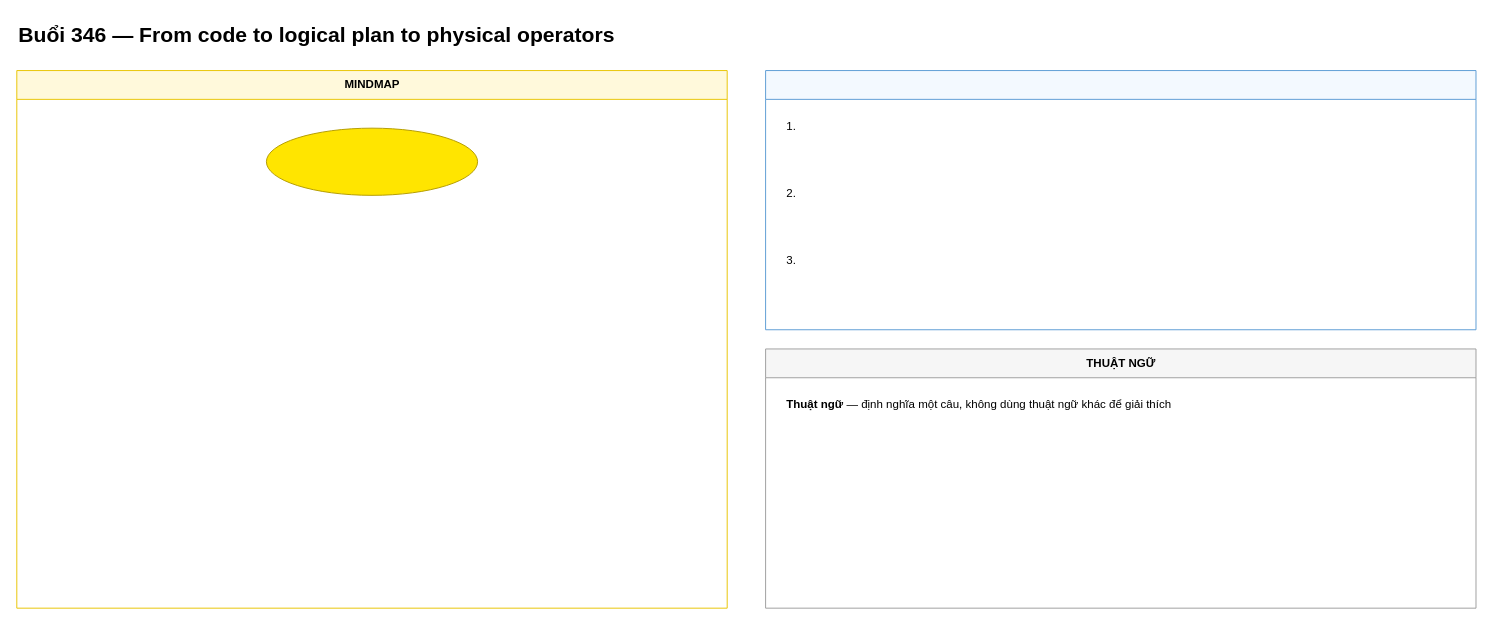
This 1493x625 diagram has some shape labels left out. Here are the shapes that lost their labels. From the top down, the box of each, then its label:
(265, 127, 478, 195): From code to logical plan to physical operators
(765, 70, 1476, 330): KEY TAKEAWAY — ba điều phải nhớ
